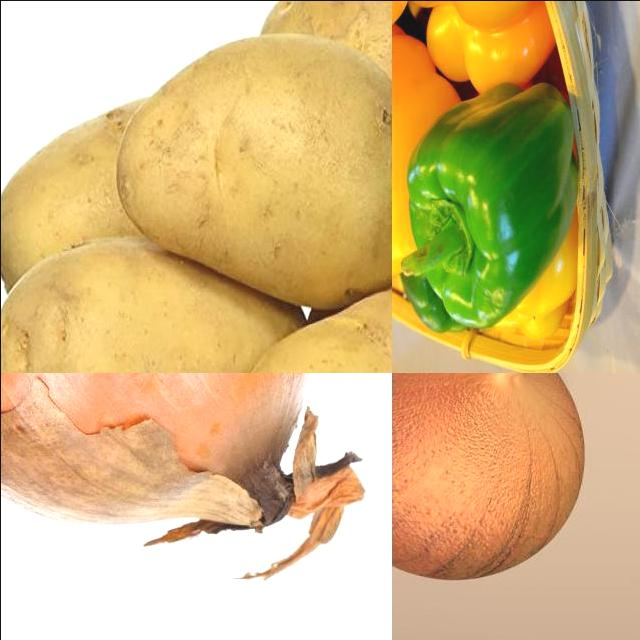bell_pepper: (404, 67, 584, 328), (392, 28, 474, 278), (397, 1, 565, 101)
onion: (1, 373, 365, 580), (392, 373, 587, 584)
potato: (118, 35, 392, 299), (1, 238, 304, 373), (1, 99, 150, 279), (261, 1, 392, 187)
